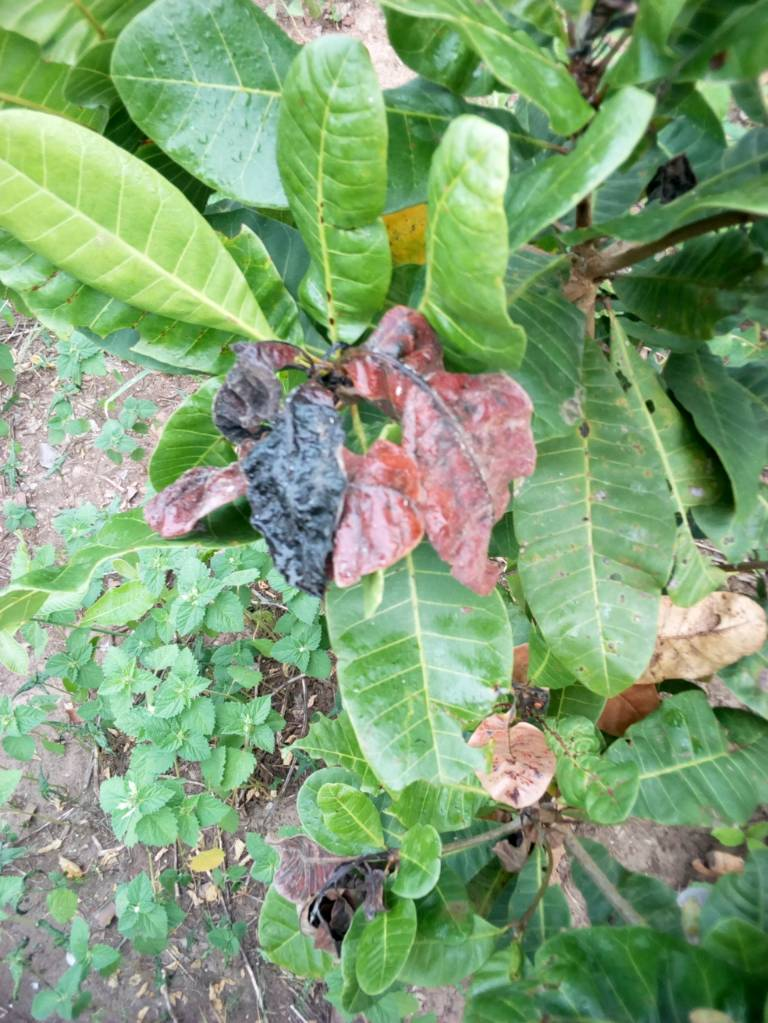Die-black: (347, 298, 540, 597), (196, 310, 366, 612), (577, 811, 757, 901), (270, 830, 386, 958)
